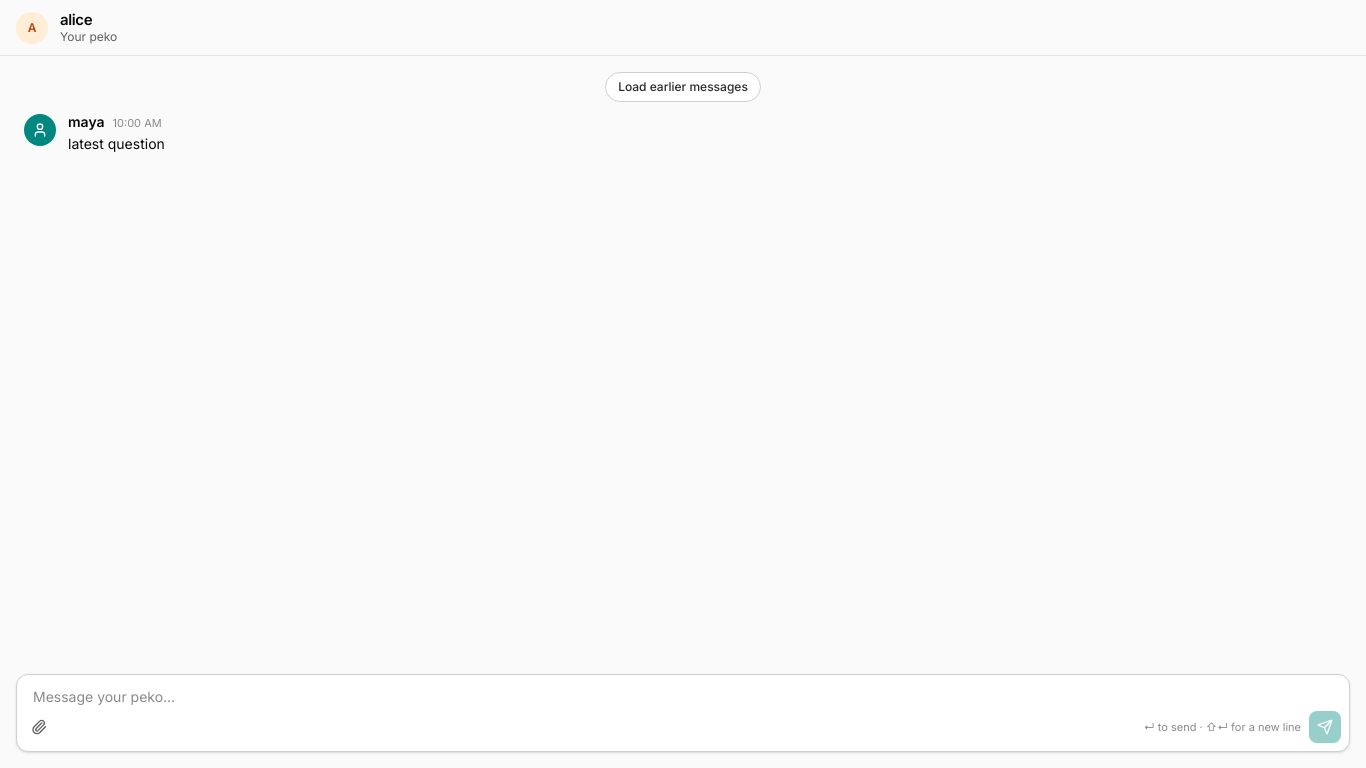
Test case: Chat thread and peko lifecycle › keeps loading earlier messages from the host of a remote peko
This screenshot has width=1366, height=768.
What coordinates should you click on to do the following:
click the button "Load earlier messages"
I would click on:
 (683, 87)
Its box is [605,72,761,102].
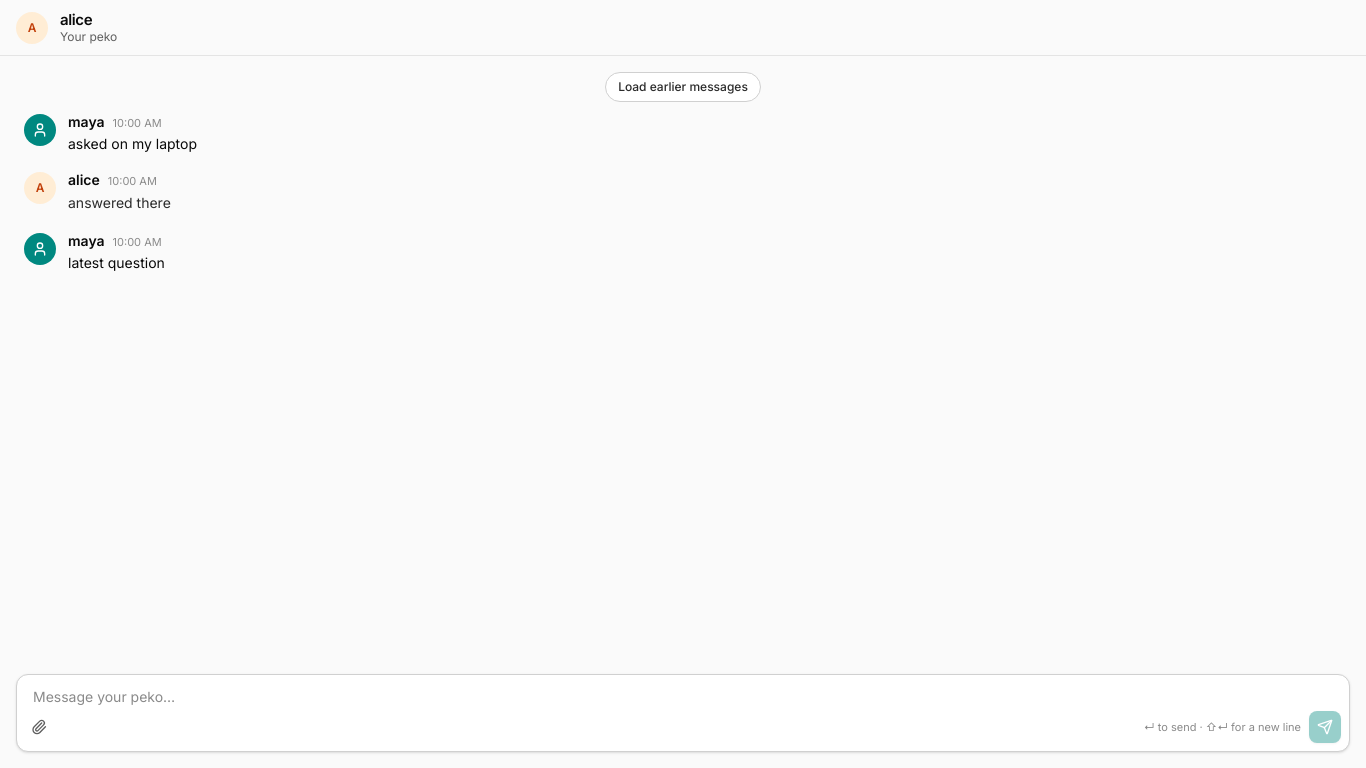
Now the text "asked on my laptop" is shown, box [68,135,197,152]
What coordinates should you click on to do the following:
click the button "Load earlier messages"
I would click on:
 (683, 87)
Its box is [605,72,761,102].
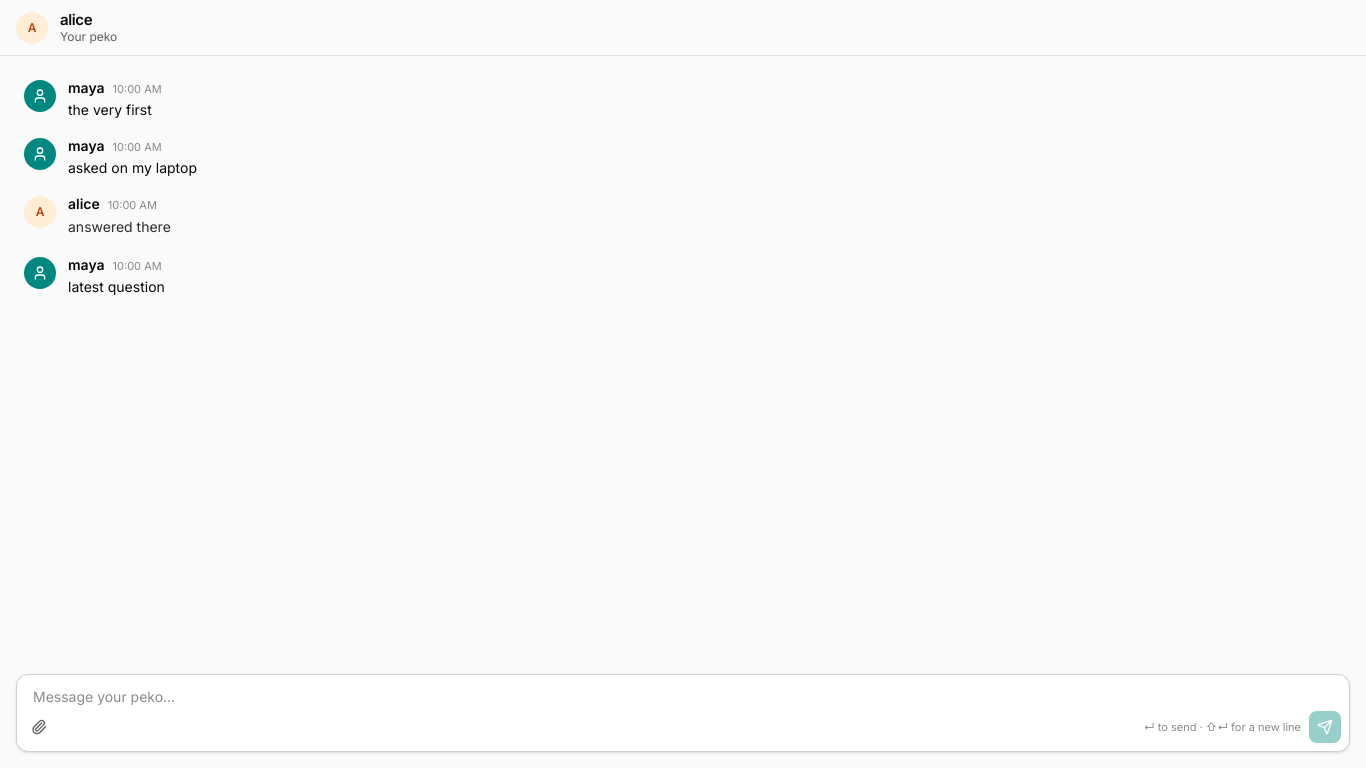
Now the text "the very first" is shown, box [68,101,152,118]
Now the button "Load earlier messages" is gone
